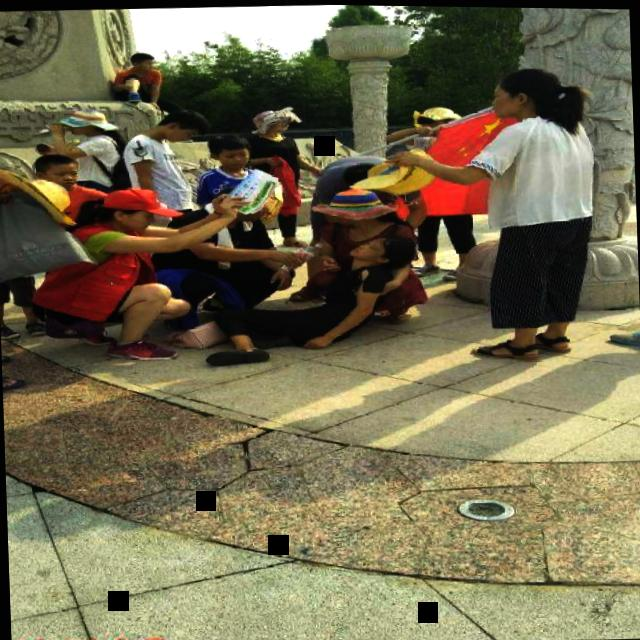Fall-Detected: (190, 213, 422, 366)
